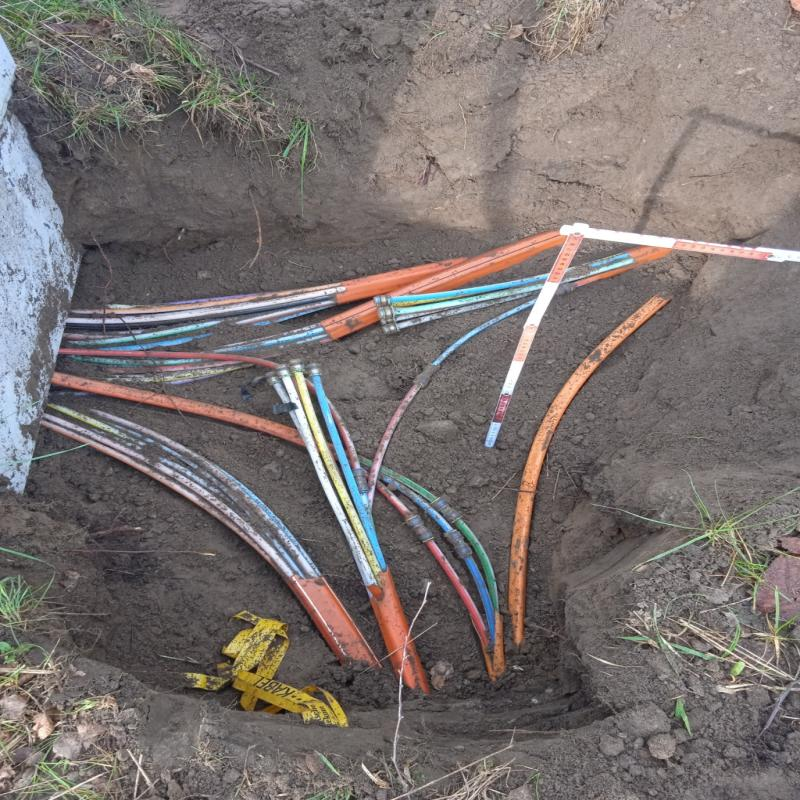Orang-Speednetrohrchen: (39, 225, 646, 686), (507, 297, 666, 644)
